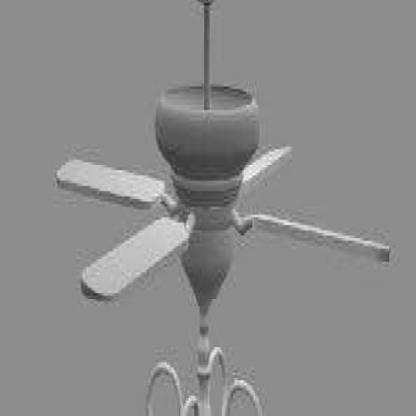ceiling-fan: (53, 2, 391, 300)
